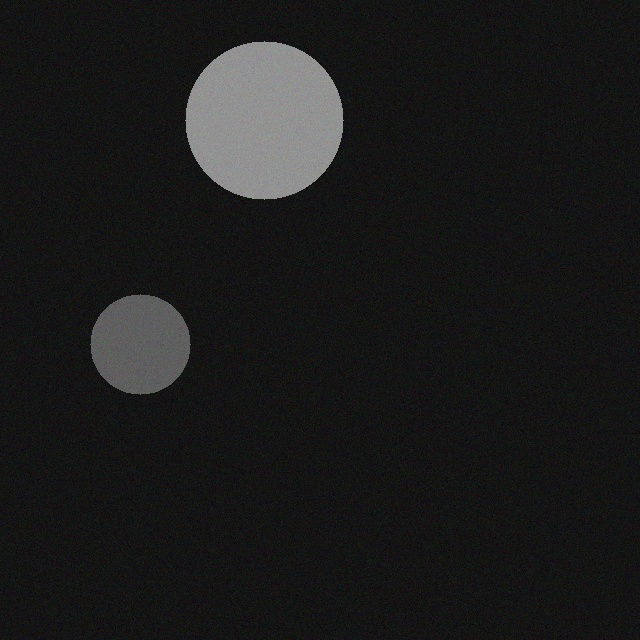circle: (170, 30, 328, 188), (75, 283, 175, 383)
